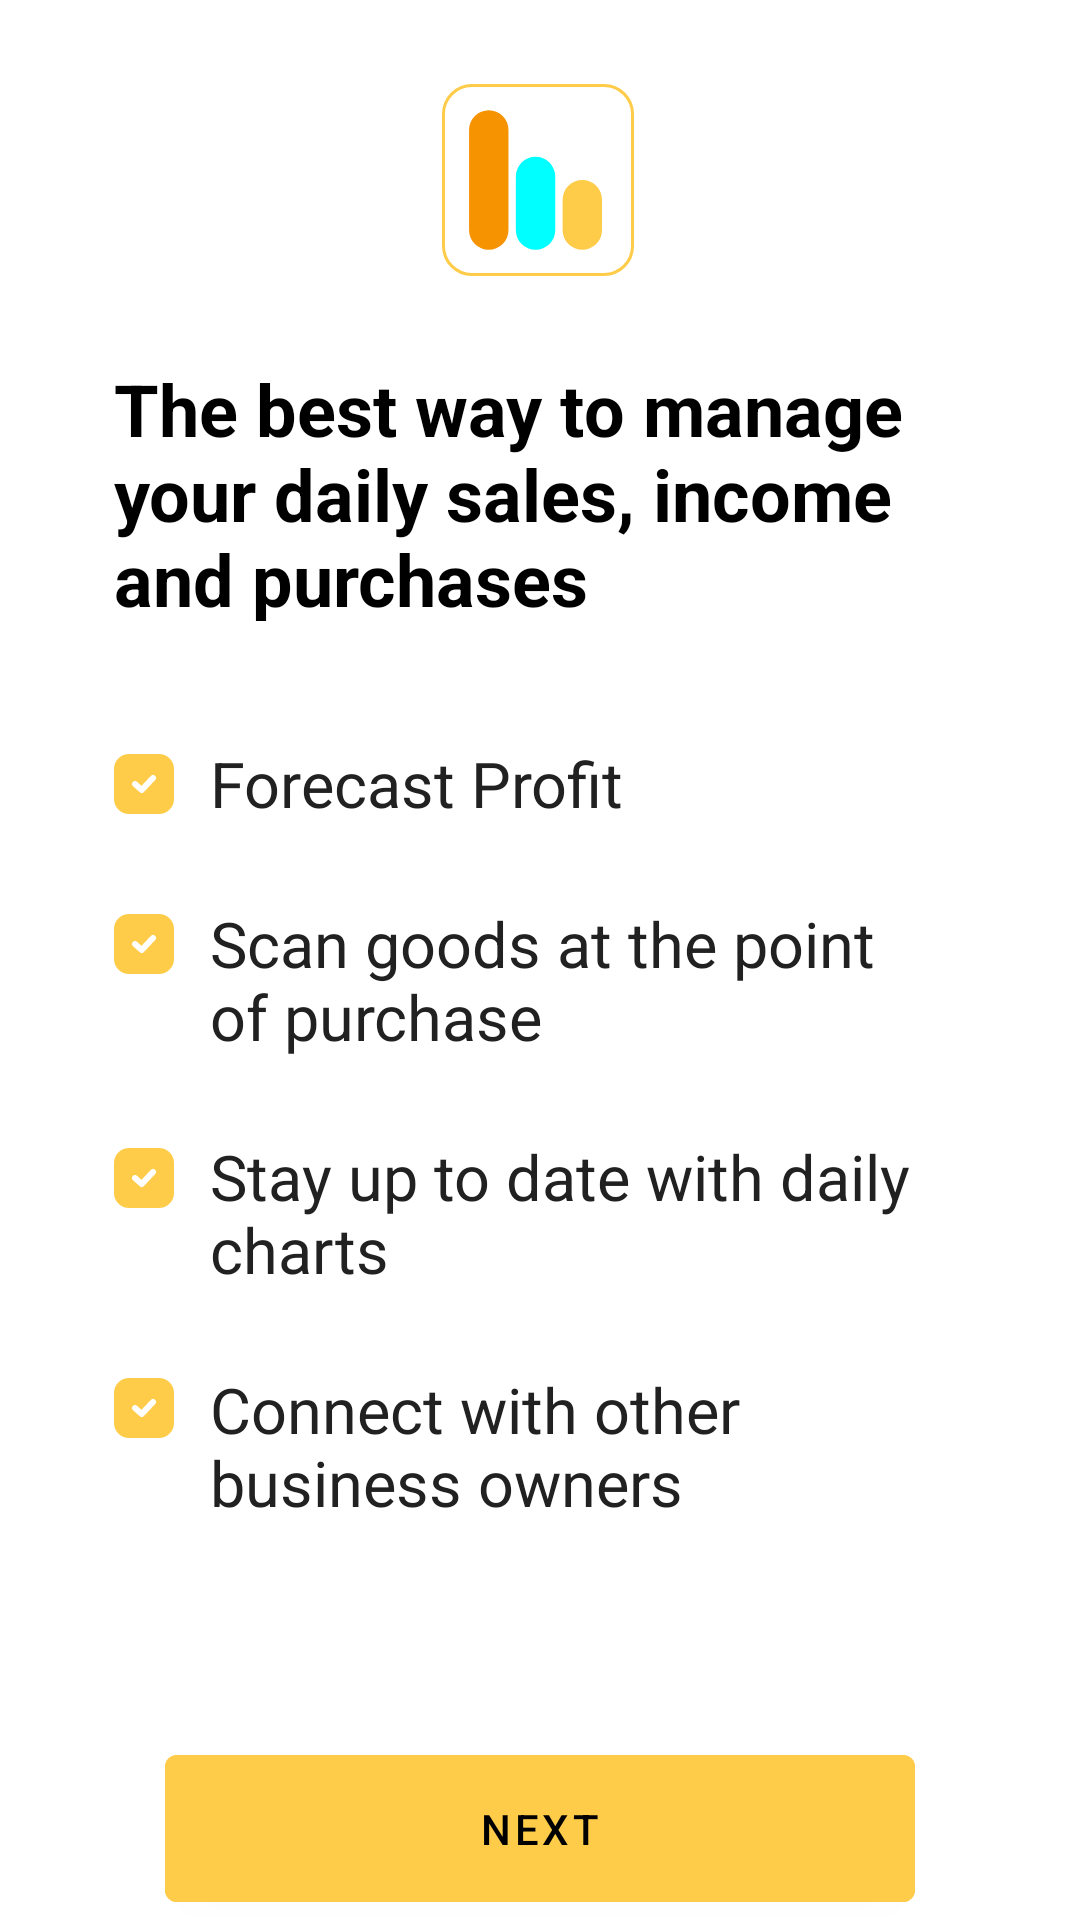

Icons on this 1080×1920 Android screen, each with the point to tap as [x,y]:
vectorcheckbox: [144,784], [144,944], [144,1178], [144,1408]
